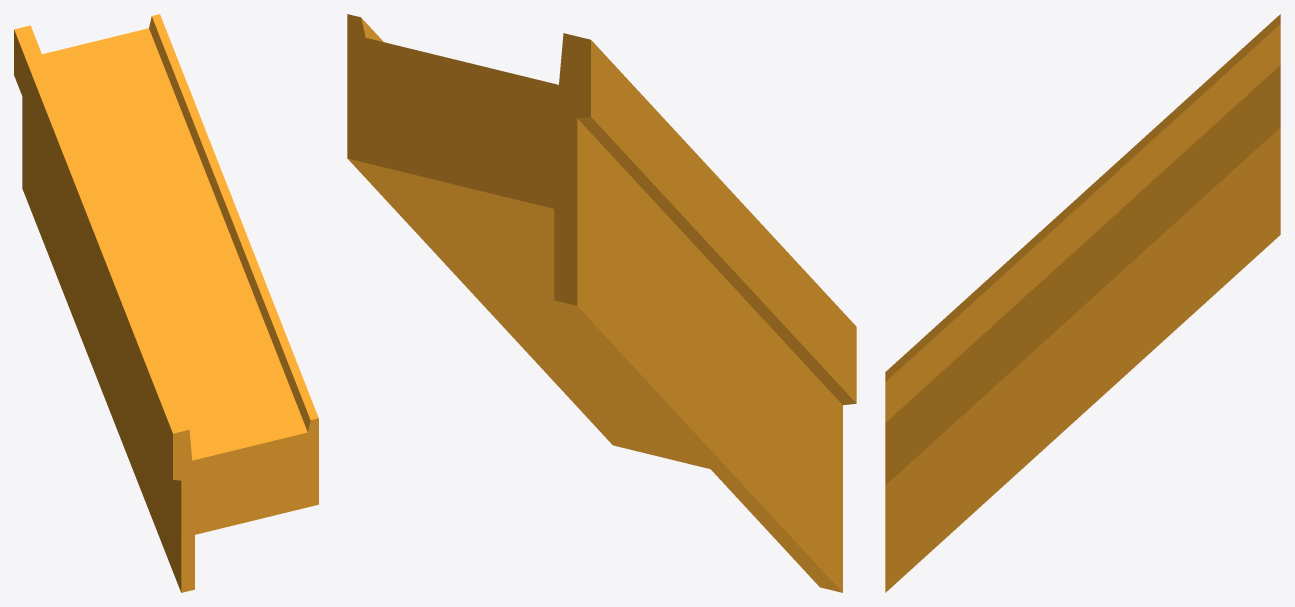
The model's file is SM_Roof_Metal_Regular_1m_Front.fbx.
3 renders of one model, left to right at view 1: azimuth 30°, elevation 25°; view 2: azimuth 150°, elevation 25°; view 3: azimuth 270°, elevation 25°, orthographic. The views are drawn at different scales.
Visible parts, largest first — view 1: roof-metal-regular-1m-front; view 2: roof-metal-regular-1m-front; view 3: roof-metal-regular-1m-front.
Part boxes in pixels (x1,y1,x2,y2): roof-metal-regular-1m-front: (14, 14, 318, 592); roof-metal-regular-1m-front: (347, 14, 856, 592); roof-metal-regular-1m-front: (885, 14, 1280, 592).
Bounding box in the file's own units: 0.53 × 1.56 × 1.
